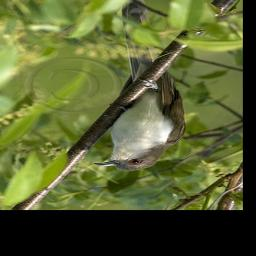Cuckoo: (93, 16, 184, 176)
